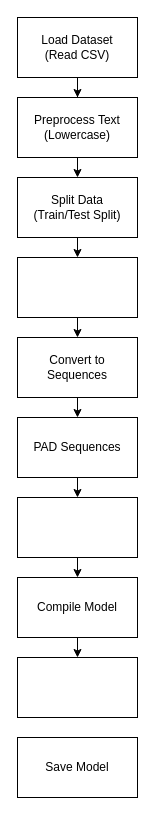
Image size: 155x815. Some labels were removed from this diagram. Here are the shapes that lost their labels. From the top down, the box of each, then its label:
(16, 256, 138, 318): Tokenize Question (Fit Tokenizer)
(16, 496, 138, 558): Define Model
(16, 656, 138, 718): Train Model
